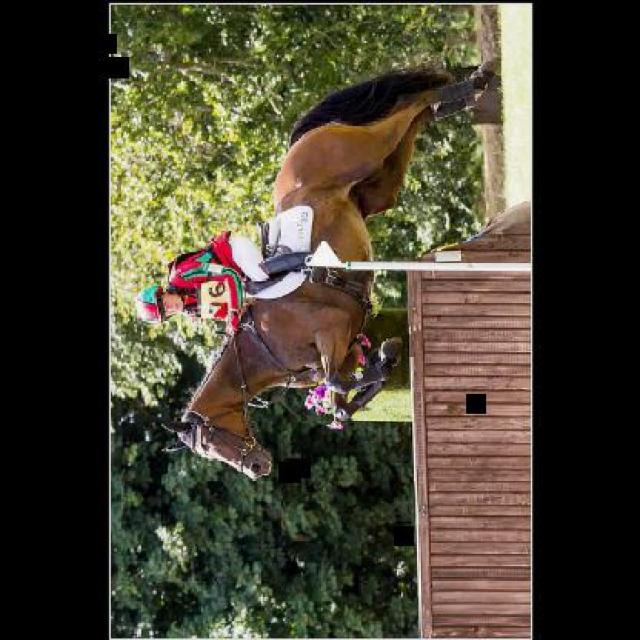unauthorized: (160, 57, 498, 480)
